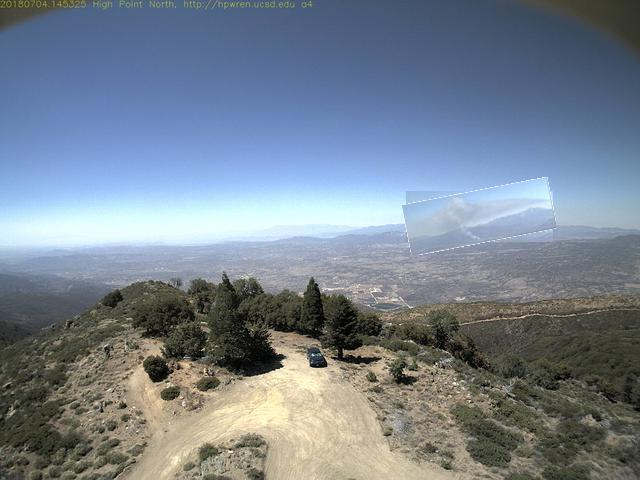smoke: (405, 185, 557, 251)
